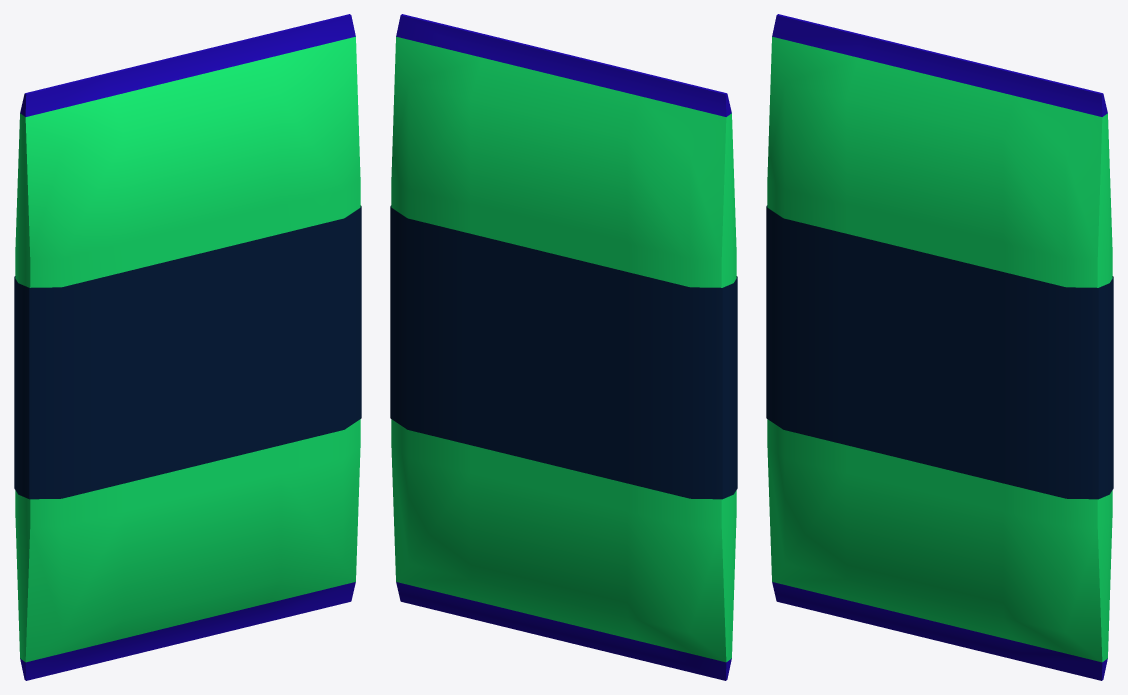
The model's file is Fish Cake.fbx.
3 renders of one model, left to right at view 1: azimuth 30°, elevation 25°; view 2: azimuth 150°, elevation 25°; view 3: azimuth 330°, elevation 25°, orthographic.
Visible parts, largest first — view 1: Fish cake_wrapped_New; view 2: Fish cake_wrapped_New; view 3: Fish cake_wrapped_New.
Part boxes in pixels (x1,y1,x2,y2): Fish cake_wrapped_New: [14, 14, 361, 680]; Fish cake_wrapped_New: [390, 14, 737, 680]; Fish cake_wrapped_New: [766, 14, 1113, 680].
Bounding box in the file's own units: 19.63 × 3.03 × 32.42.
